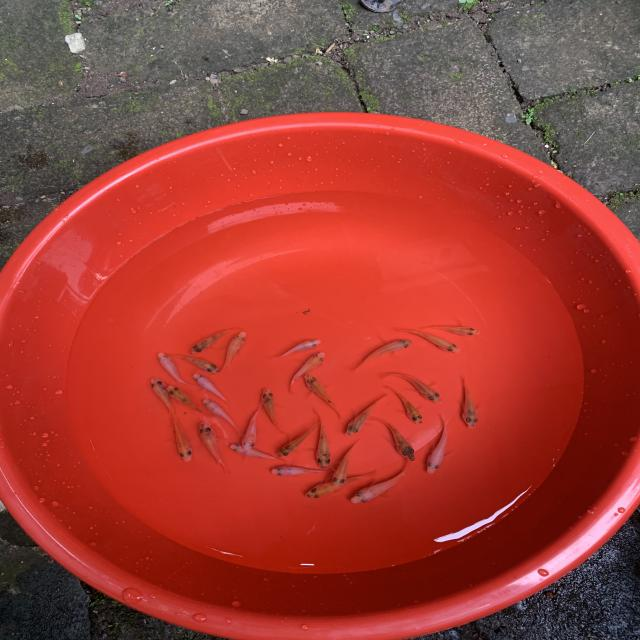nila: (297, 466, 376, 507), (372, 364, 448, 405), (348, 461, 413, 505), (343, 387, 396, 440), (364, 412, 419, 463), (351, 333, 413, 372), (283, 346, 330, 397), (195, 418, 235, 474), (391, 324, 464, 354), (272, 417, 324, 459), (299, 371, 345, 417), (383, 380, 428, 427), (256, 383, 292, 441), (199, 393, 244, 435), (424, 411, 452, 478), (166, 345, 222, 377), (226, 439, 291, 465), (149, 376, 184, 424), (309, 408, 336, 468), (192, 372, 238, 406), (164, 384, 210, 418), (186, 327, 241, 355), (333, 438, 363, 489), (164, 413, 192, 465), (218, 329, 250, 374), (270, 337, 322, 363), (154, 352, 192, 387), (459, 378, 484, 430), (420, 317, 486, 336), (265, 462, 328, 481), (240, 401, 262, 455)
